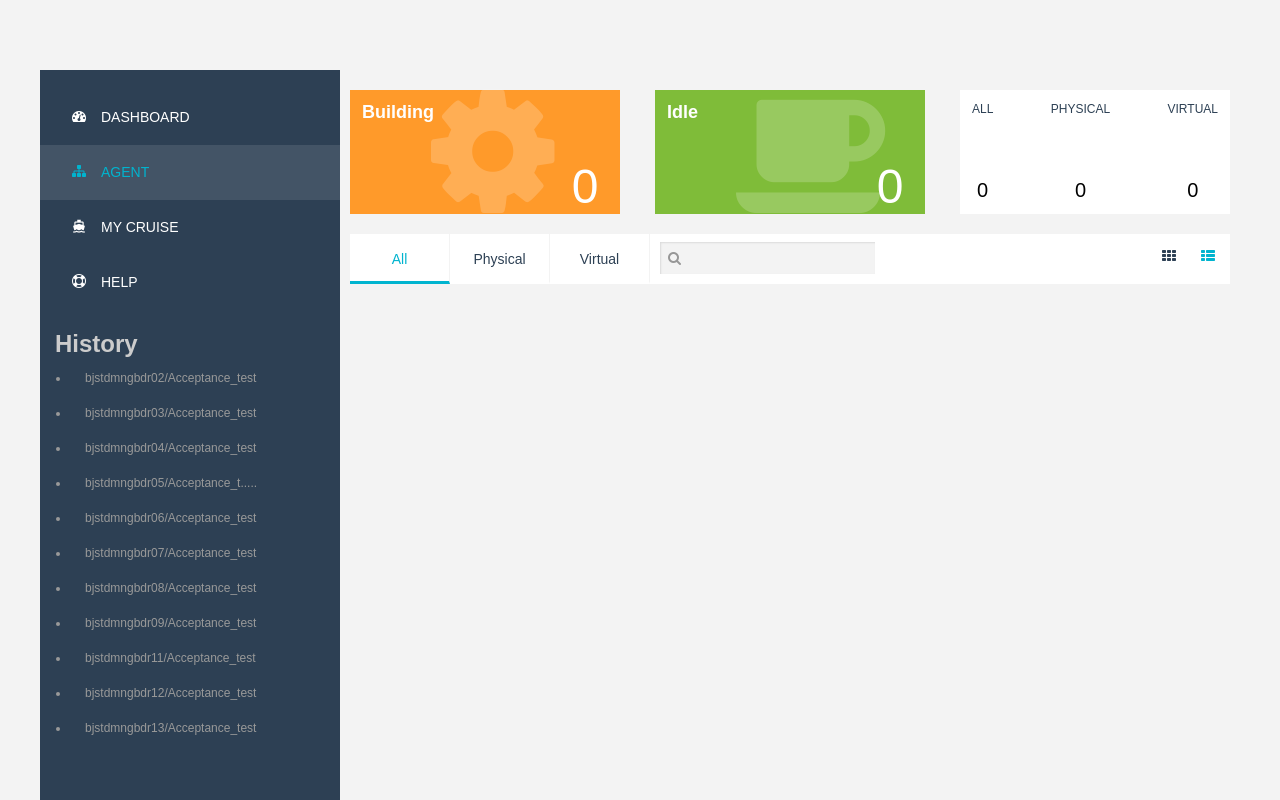
Main › should render navigation and other content page when click DASHBOARD
Click the link "DASHBOARD" at (131, 117), box top-left (72, 109), bottom-right (190, 125)
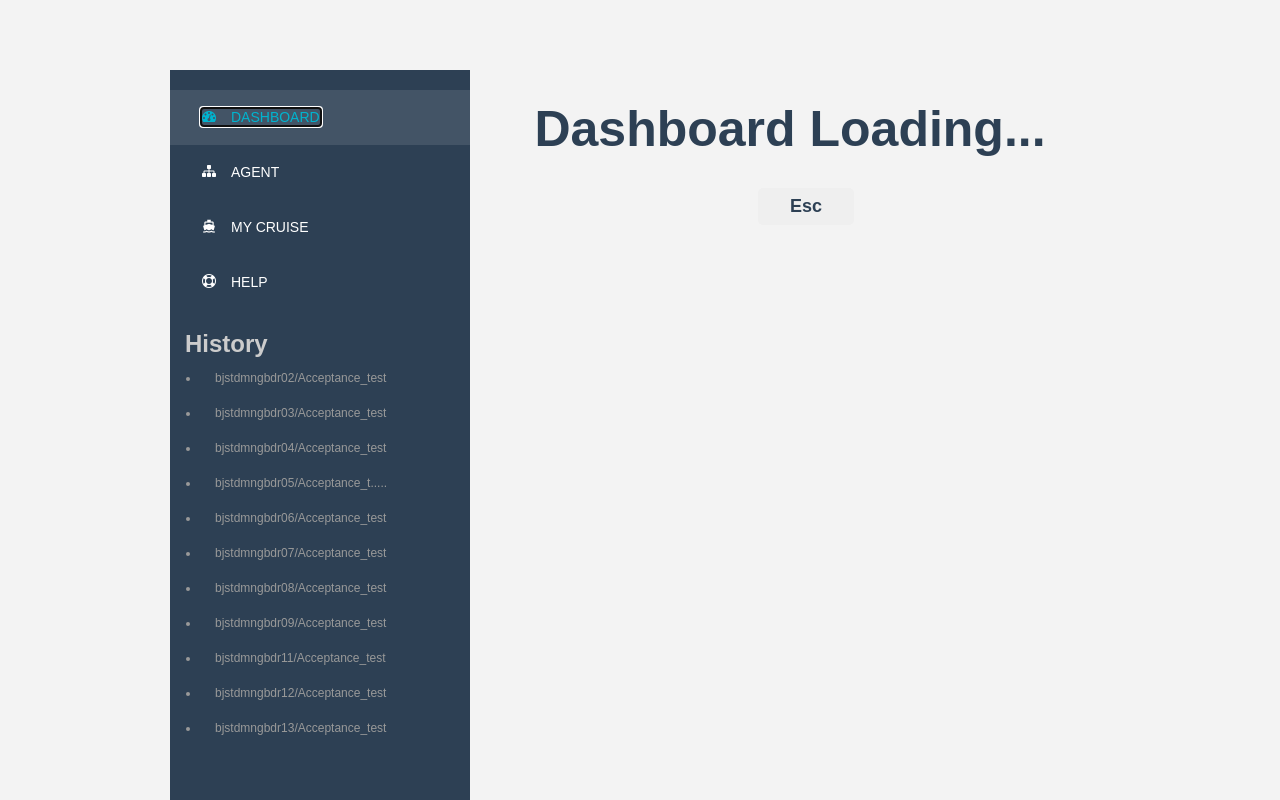
Result: the header is shown at top-left (534, 101), bottom-right (1046, 225)
Result: the heading "dashboard Loading..." is shown at top-left (500, 100), bottom-right (1080, 158)
